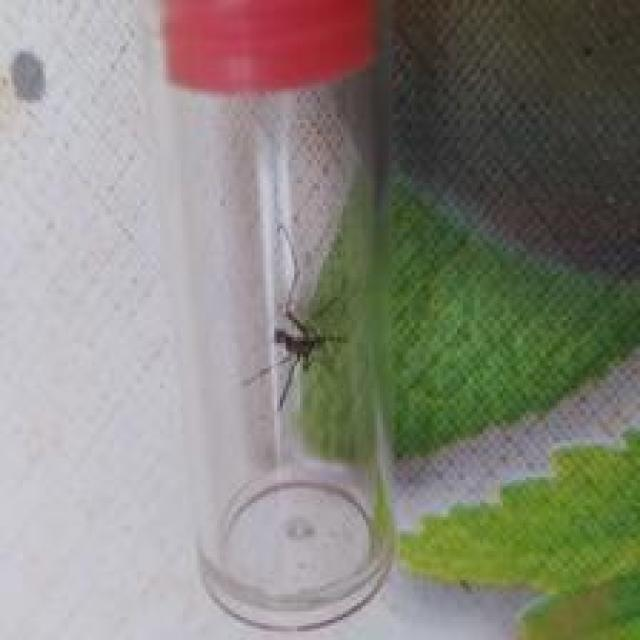Aedes albopictus: (240, 223, 349, 411)
